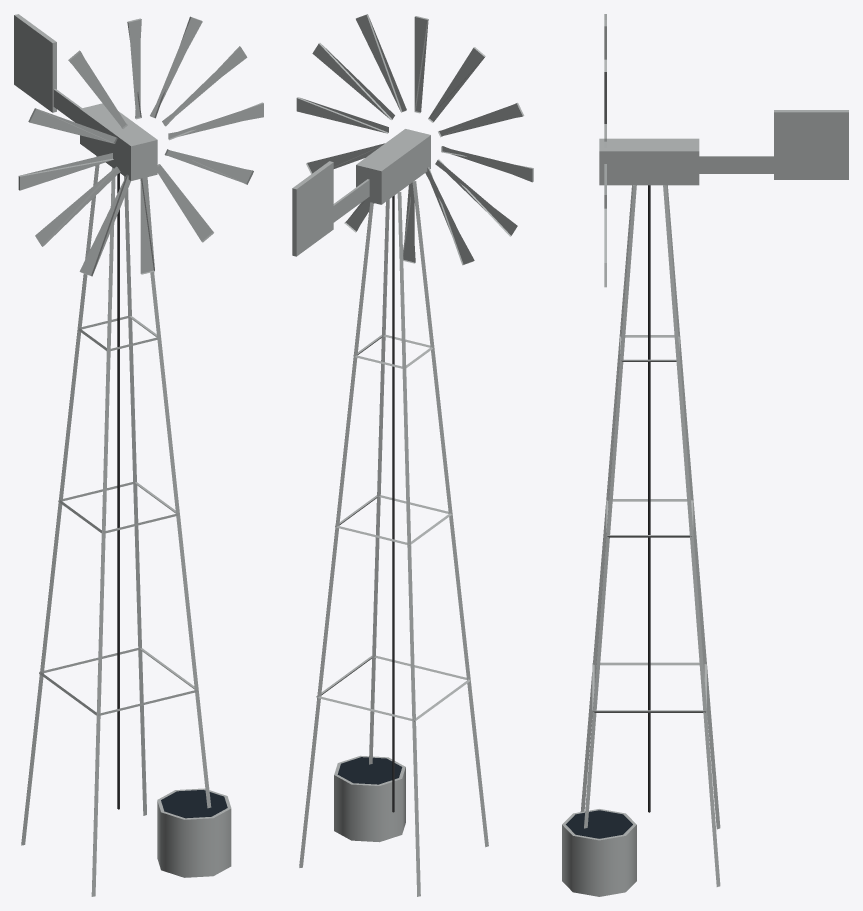
The model's file is windmill.glb.
3 views of the same model, side by side, from view 1: azimuth 30°, elevation 25°; view 2: azimuth 150°, elevation 25°; view 3: azimuth 270°, elevation 25° (orthographic). The views are drawn at different scales.
Parts seen in each view (by area): view 1: windmill; view 2: windmill; view 3: windmill.
Part boxes in pixels (x1,y1,x2,y2): windmill: [14, 14, 263, 896]; windmill: [292, 14, 533, 896]; windmill: [562, 14, 848, 896].
Bounding box in the file's own units: 2.2 × 7.35 × 2.3.
Materials: 1 (1 with a texture image).
